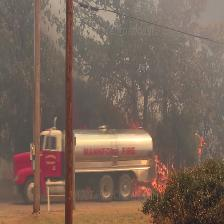fire: (132, 156, 175, 199)
